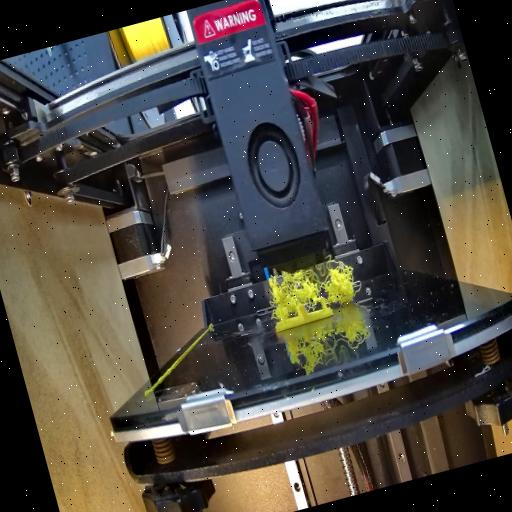spaghetti: (254, 250, 352, 323)
